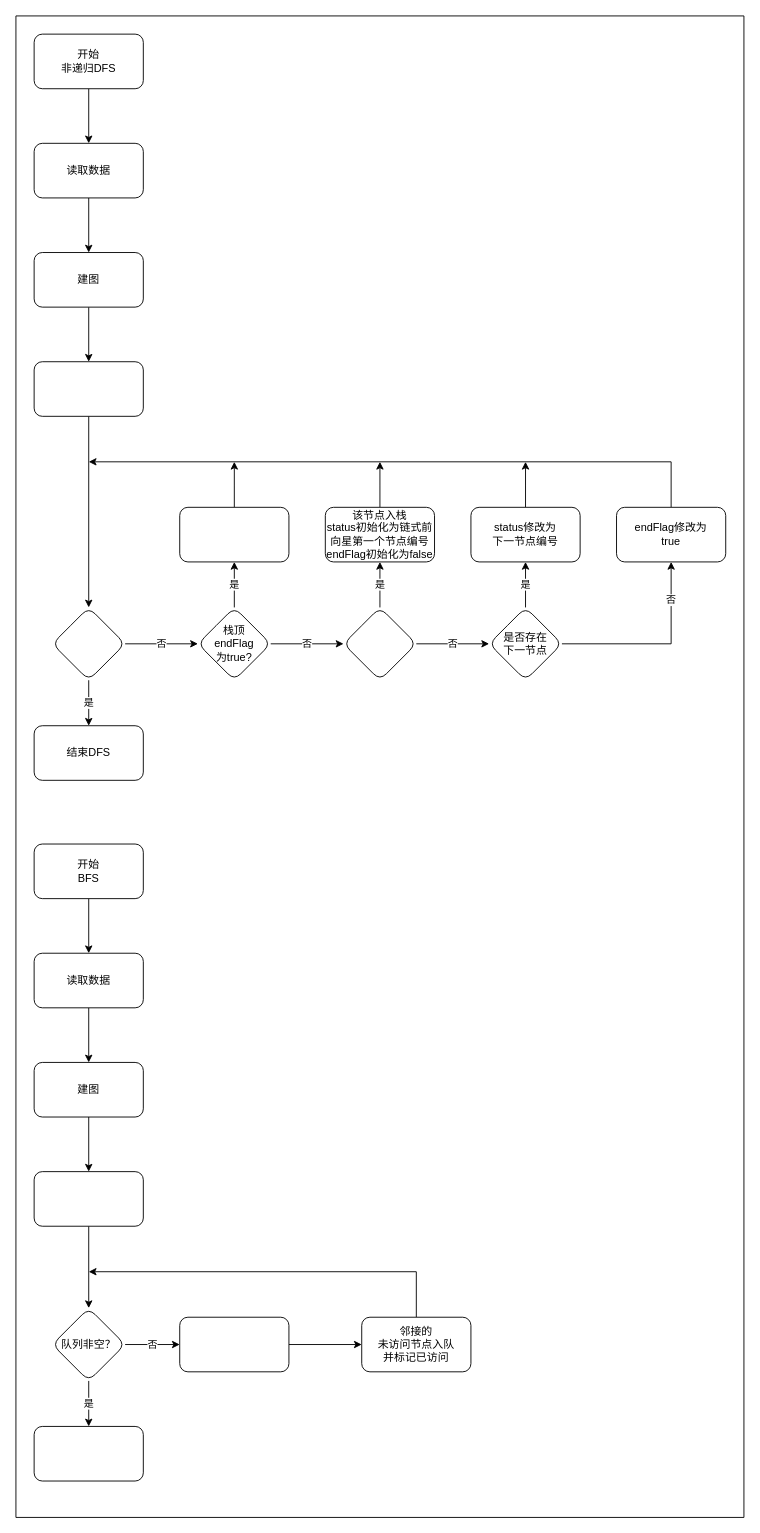
This 760x1533 diagram has some shape labels left out. The centre of each missing label's shape, as x and y in pixels:
"BFS结束" goes at point (88, 1453).
"status 对应节点 已访问？" goes at point (379, 643).
"将起点放入栈中 status初始化为链式前向星第一个节点编号 endFlag初始化为false" goes at point (88, 388).
"弹出栈顶元素" goes at point (234, 534).
"栈空？" goes at point (88, 643).
"起点入队" goes at point (88, 1198).
"队首出队" goes at point (234, 1344).
